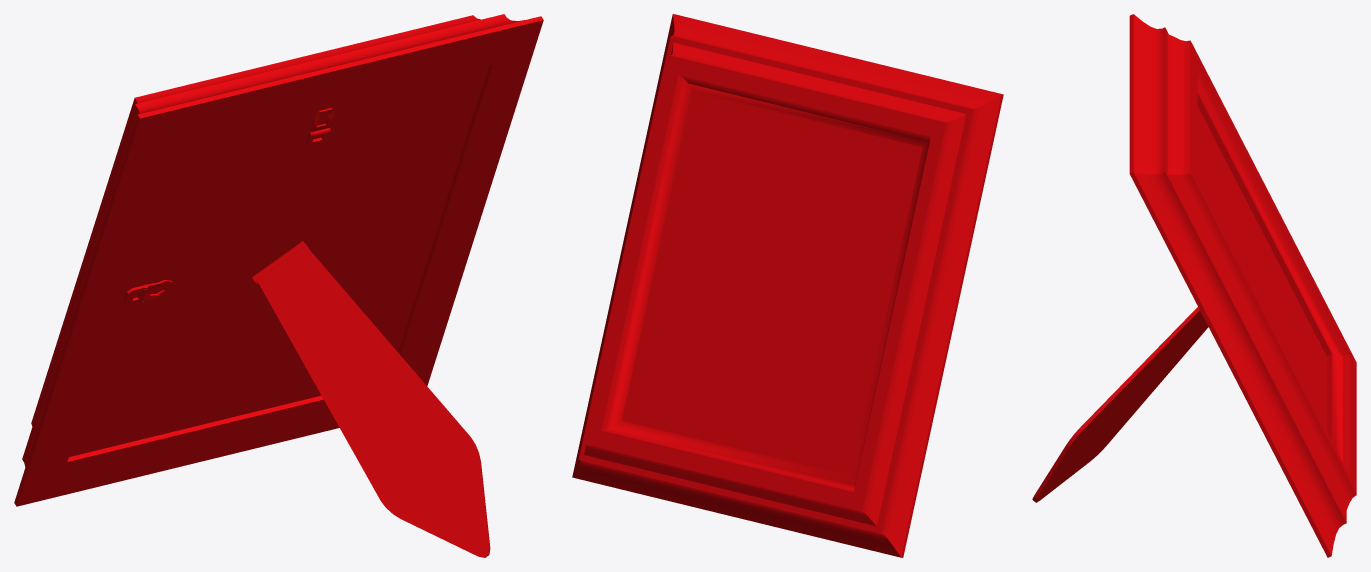
The model's file is PictureFrame.fbx.
3 views of the same model, side by side, from view 1: azimuth 30°, elevation 25°; view 2: azimuth 150°, elevation 25°; view 3: azimuth 270°, elevation 25° (orthographic). The views are drawn at different scales.
Visible parts, largest first — view 1: PictureFrame; view 2: PictureFrame; view 3: PictureFrame.
Part boxes in pixels (<box>): PictureFrame: <box>14,14,543,557</box>; PictureFrame: <box>572,14,1003,557</box>; PictureFrame: <box>1032,14,1356,557</box>.
Bounding box in the file's own units: 160 × 182 × 139.
